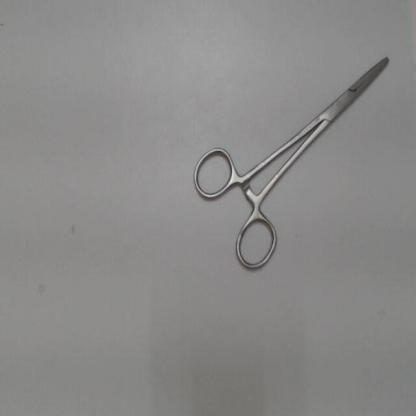Mayo Needle Holder: (188, 31, 408, 280)
